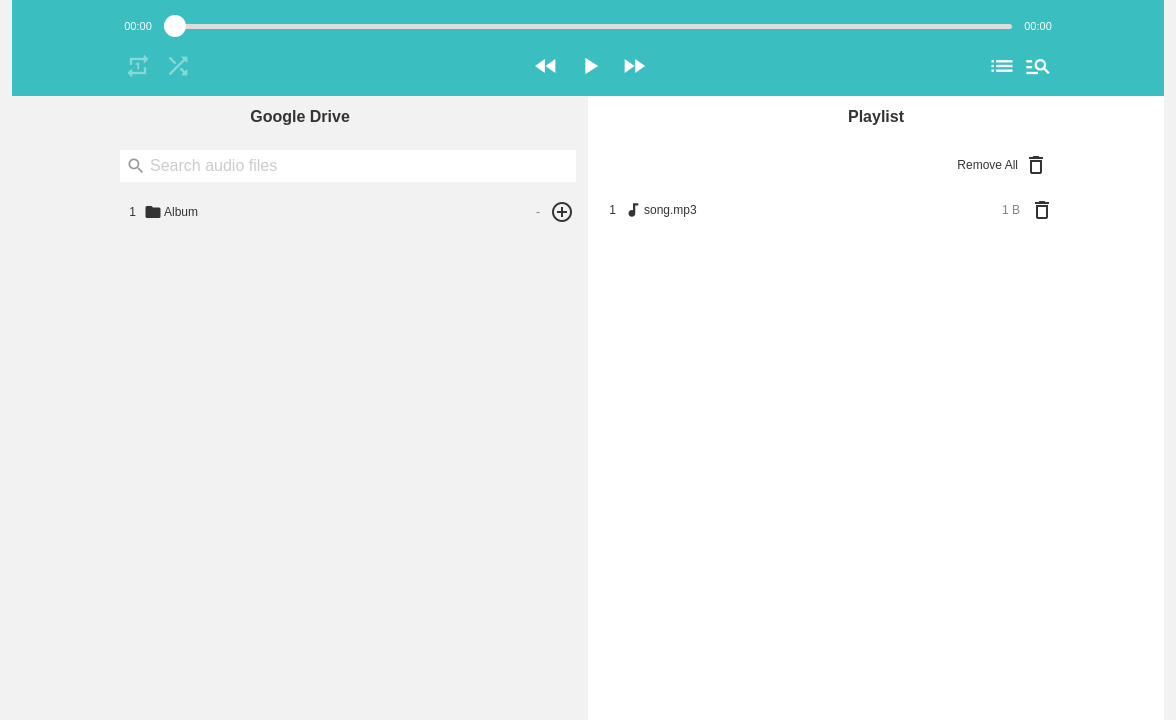
LibraryPage › プレイリストの Remove All で空になる
The image size is (1176, 720).
What coordinates should you click on to do the following:
click the button with class "clear"
I would click on:
 (1004, 165)
Its box is [951,150,1056,180].
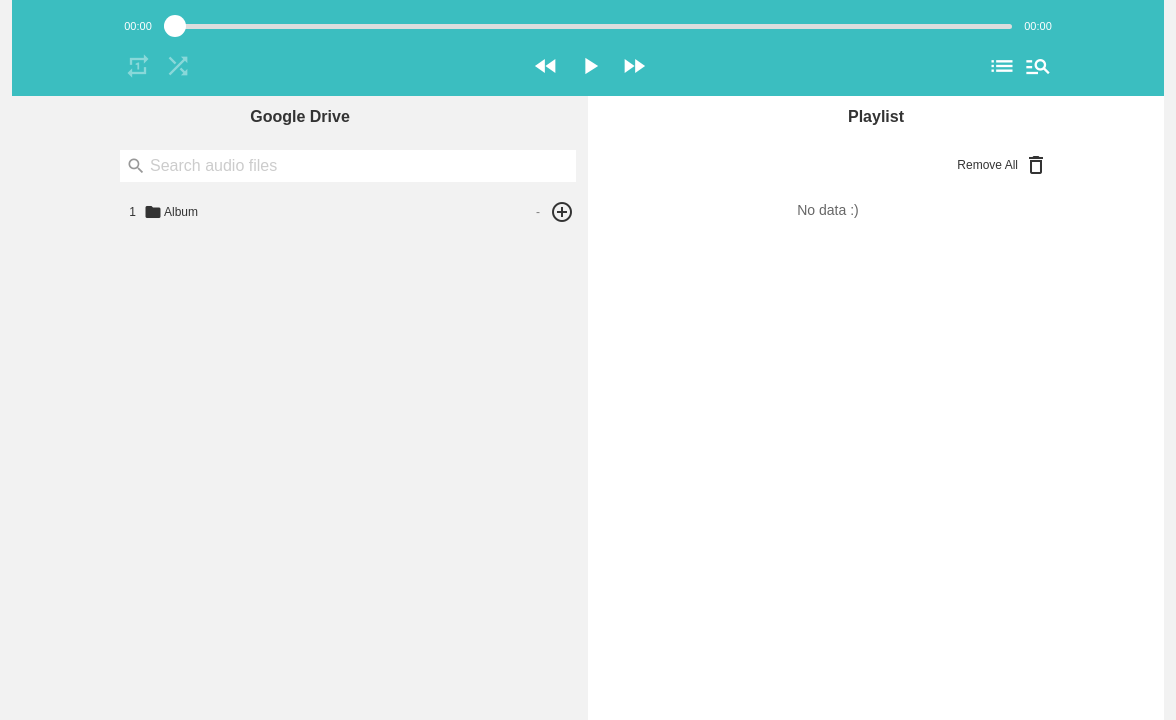
Now the text with class "empty" reads "No data :)", box [797,202,859,218]
